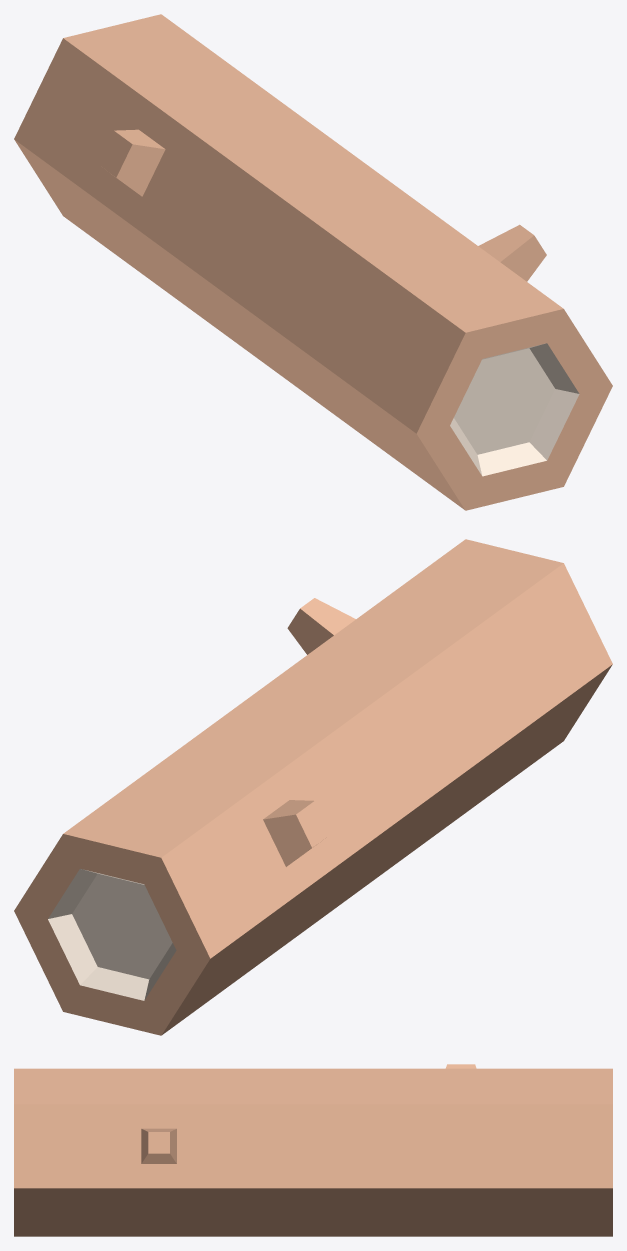
File: log.glb
3 views of the same model, one above another, from view 1: azimuth 30°, elevation 25°; view 2: azimuth 150°, elevation 25°; view 3: azimuth 270°, elevation 25° (orthographic). The views are drawn at different scales.
Visible parts, largest first — view 1: log; view 2: log; view 3: log.
Part boxes in pixels (box(x1,y1,x2,y2)): log: box(14, 14, 612, 510); log: box(14, 539, 612, 1035); log: box(14, 1064, 612, 1236).
Size of the model in its own units: 0.234 by 0.1732 by 0.71.
